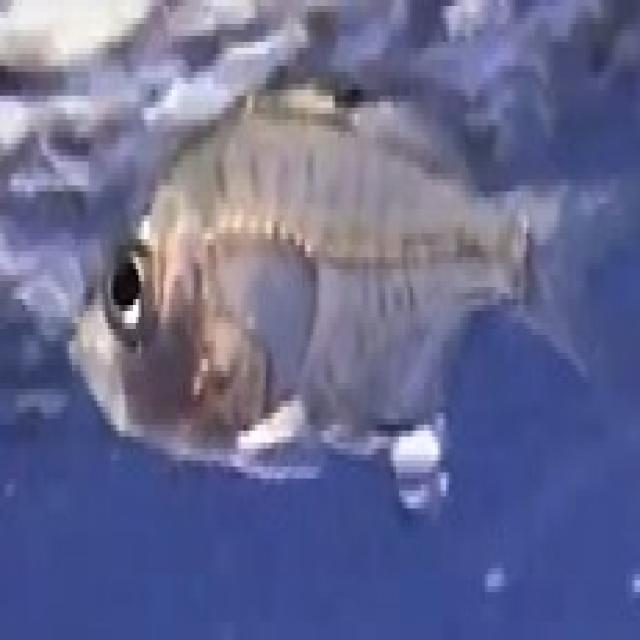Glass-Perchlet: (47, 54, 640, 526)
